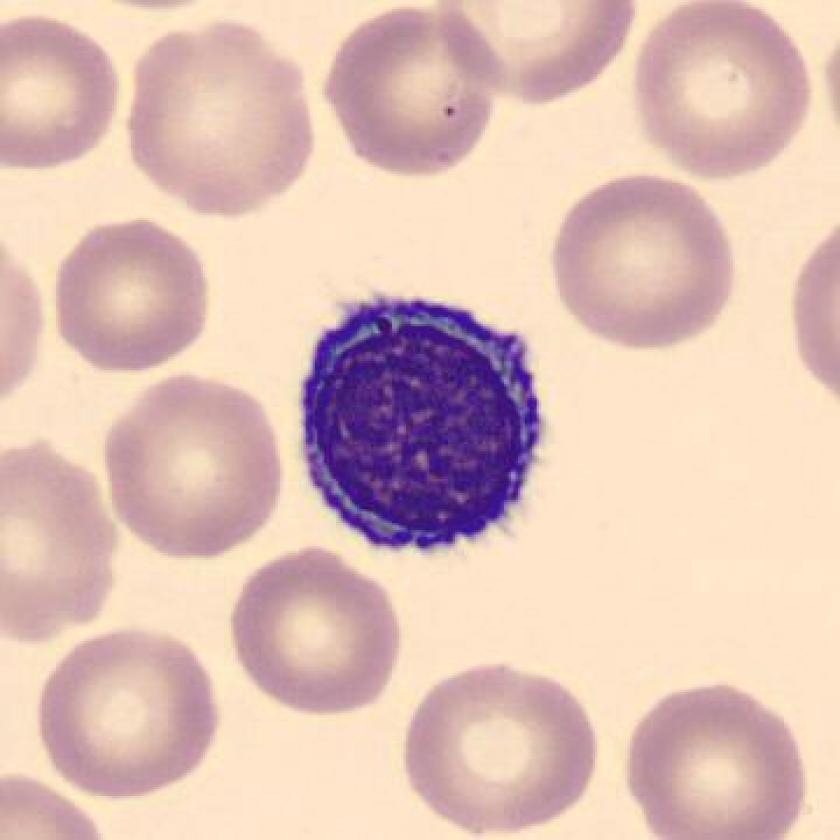lymphocyte: (281, 279, 563, 575)
